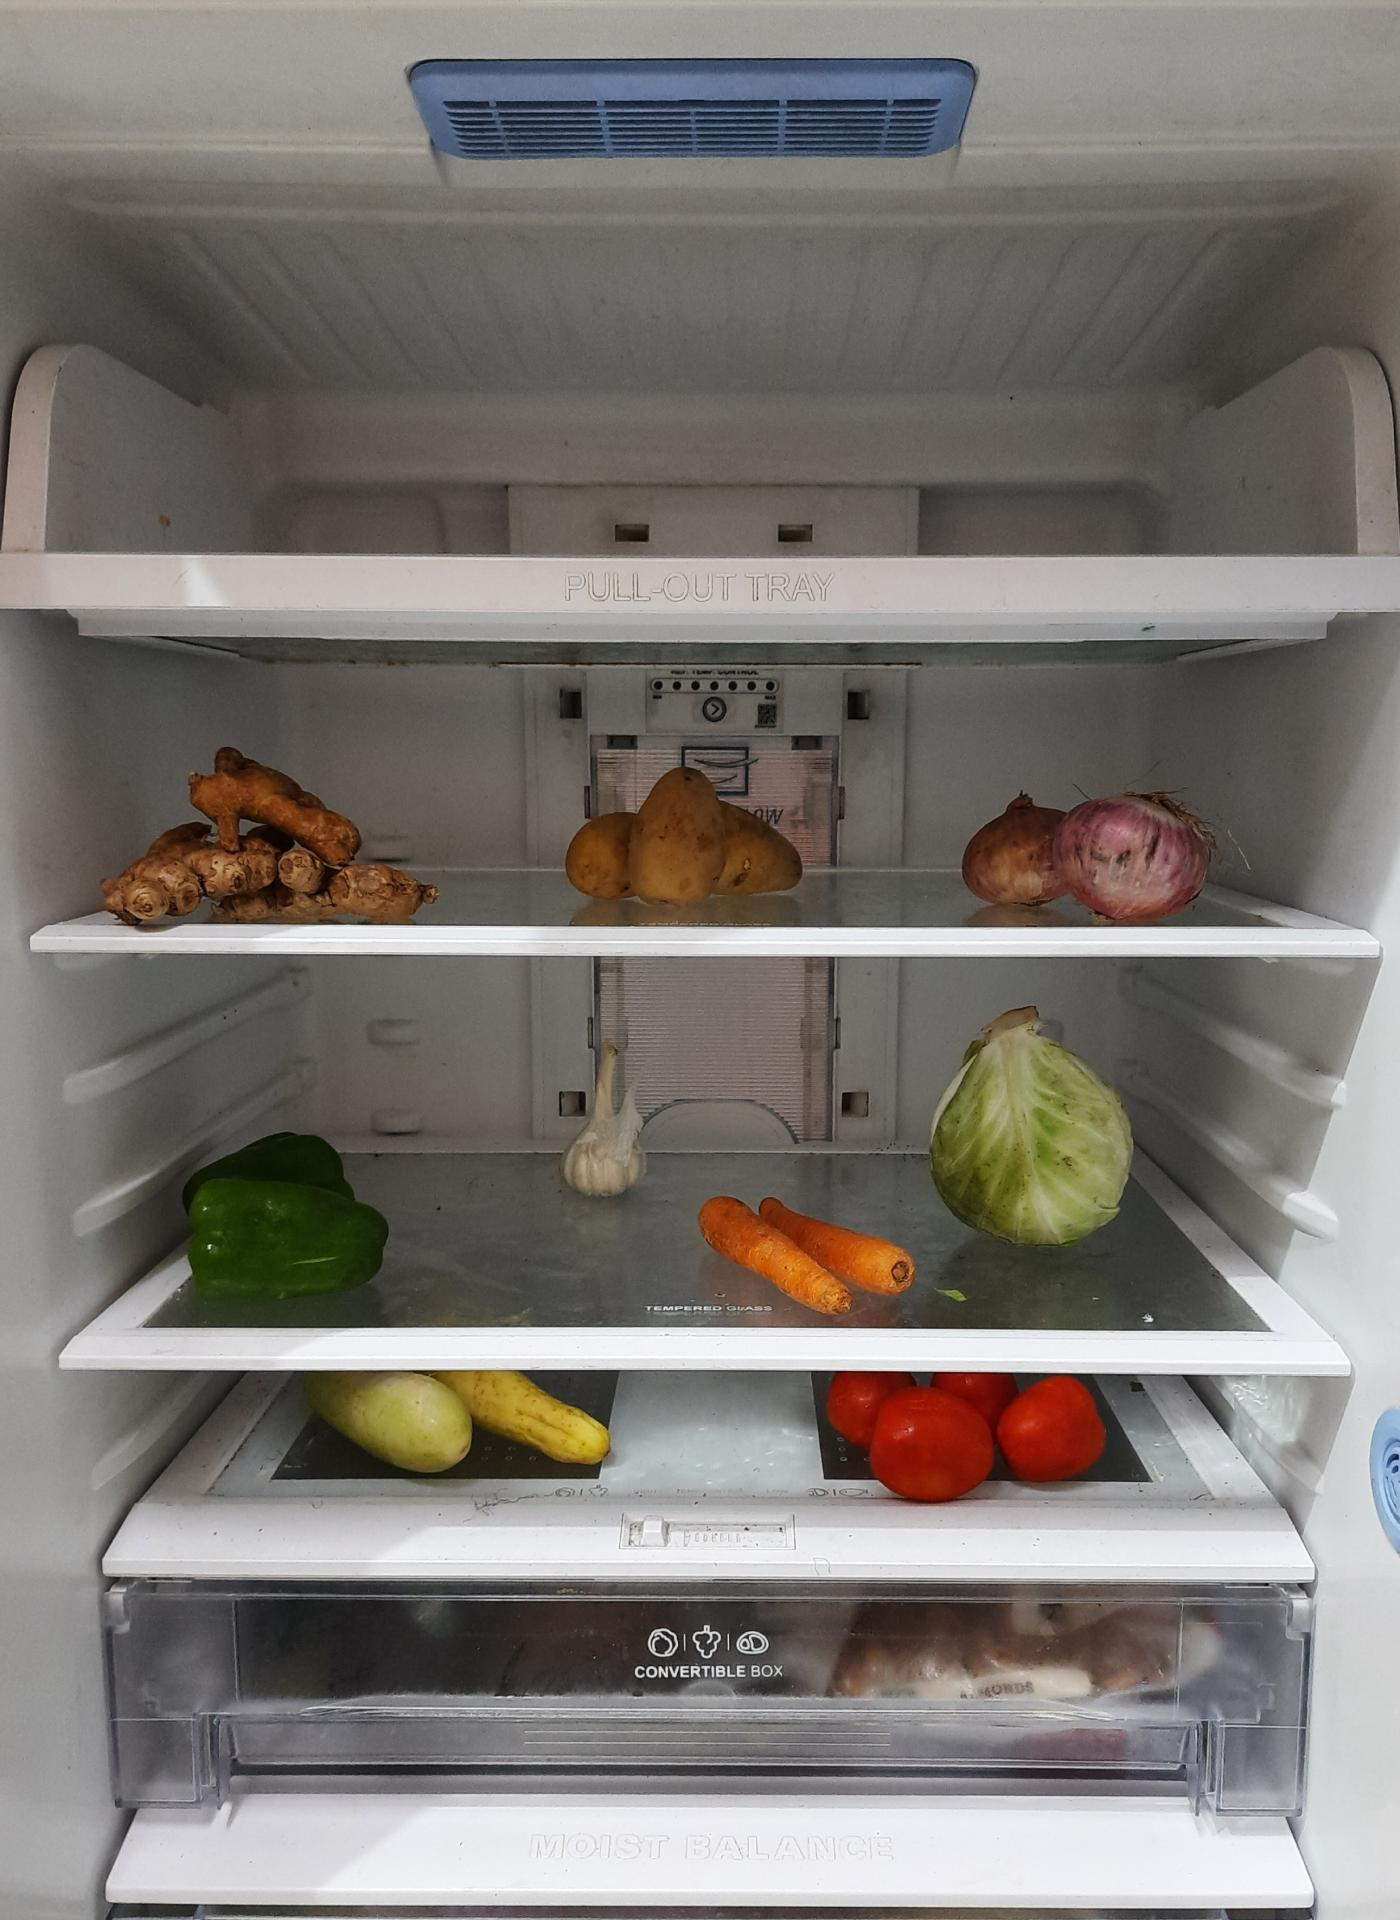cabbage: (927, 1011, 1135, 1251)
capsicum: (185, 1134, 389, 1297)
carrots: (692, 1187, 924, 1312)
cucumber: (306, 1371, 622, 1479)
garlic: (562, 1036, 653, 1193)
ginger: (100, 744, 434, 926)
onion: (971, 787, 1212, 914)
potato: (568, 771, 799, 905)
tomato: (808, 1374, 1111, 1503)
